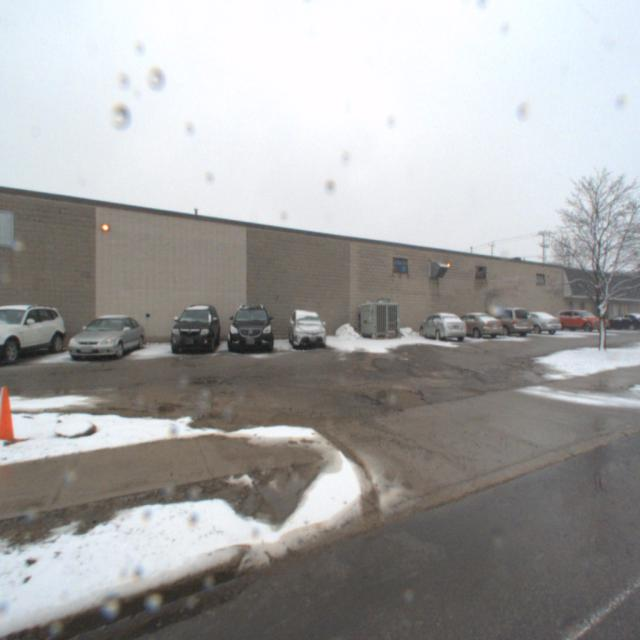Car: (54, 304, 148, 360), (165, 295, 221, 353), (227, 297, 273, 354), (466, 308, 536, 341), (286, 304, 328, 350), (415, 312, 469, 346), (445, 313, 505, 343), (544, 312, 610, 339), (499, 313, 563, 340)
